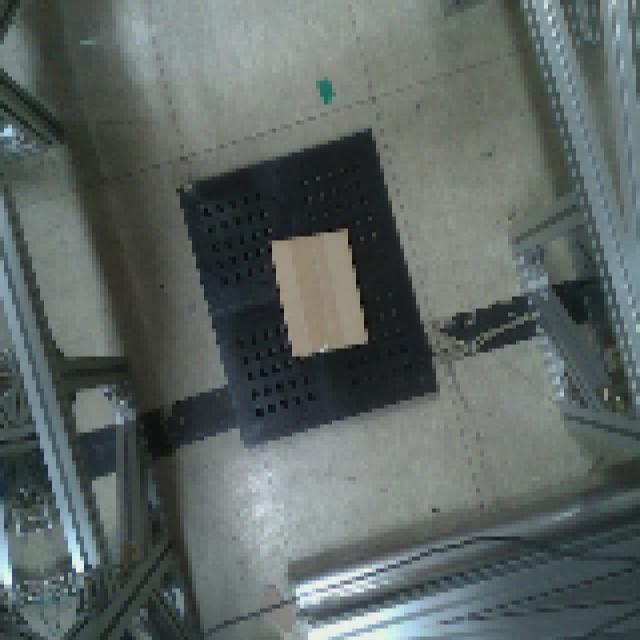box: (264, 220, 378, 362)
pallet: (168, 116, 451, 457)
